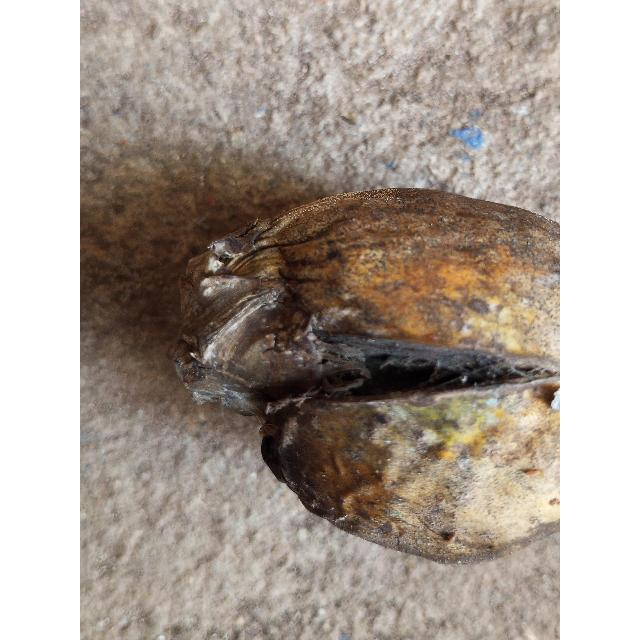damaged: (175, 189, 560, 566)
